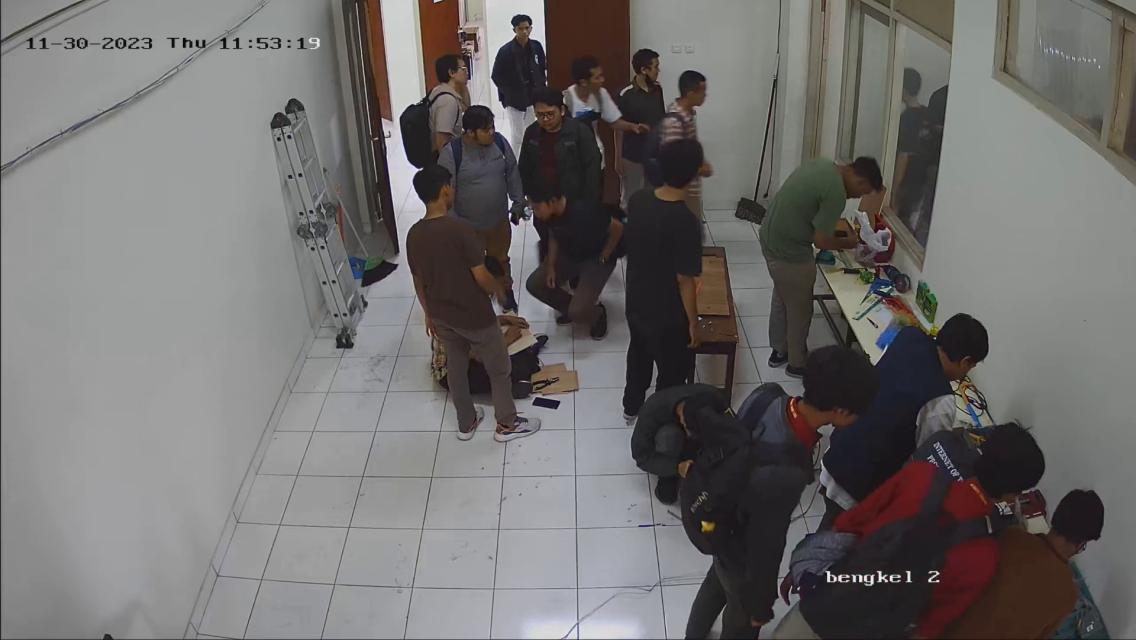Crowd: (671, 224, 1096, 640), (388, 9, 728, 418)
